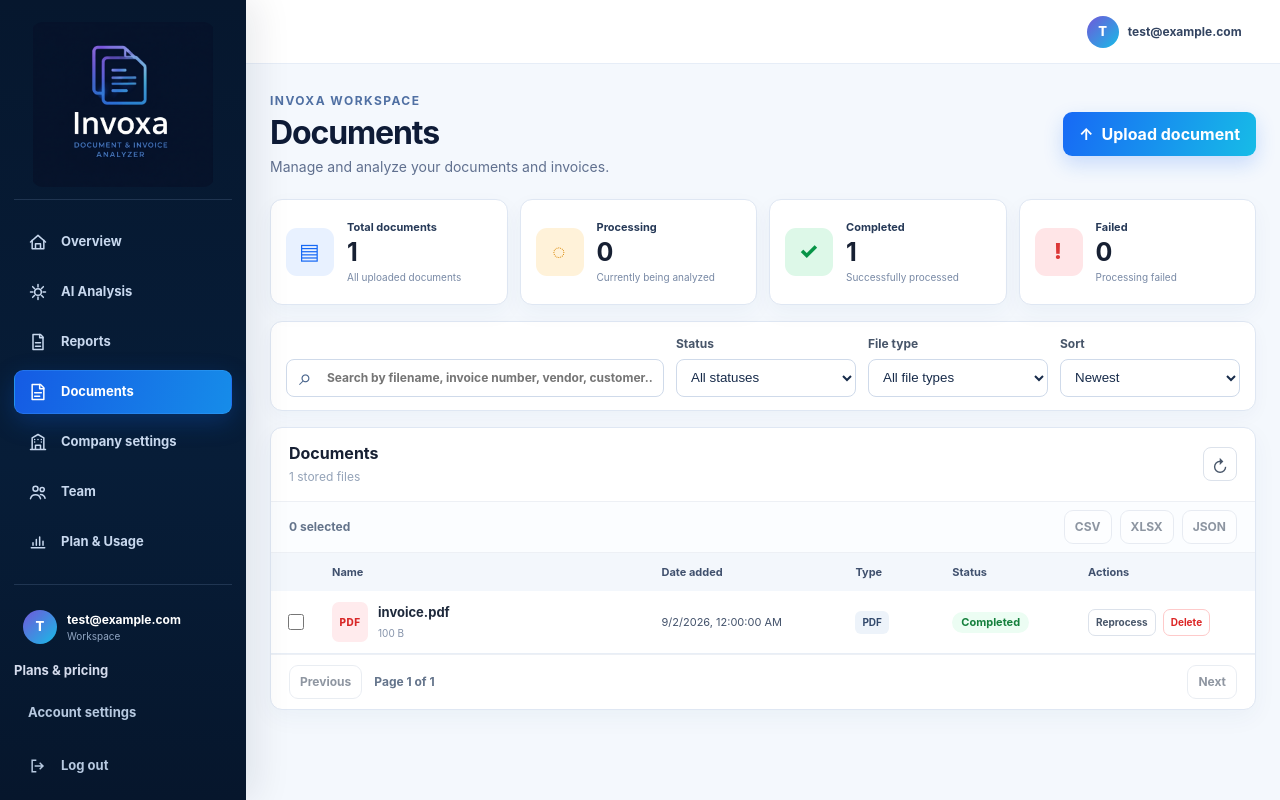
Test case: professional document detail › shows authenticated PDF preview, structured fields, line items and clean missing values
(page scrolled)
Click the button "PDF invoice.pdf 100 B" at (350, 622), box left=332, top=602, right=636, bottom=642
(page scrolled)
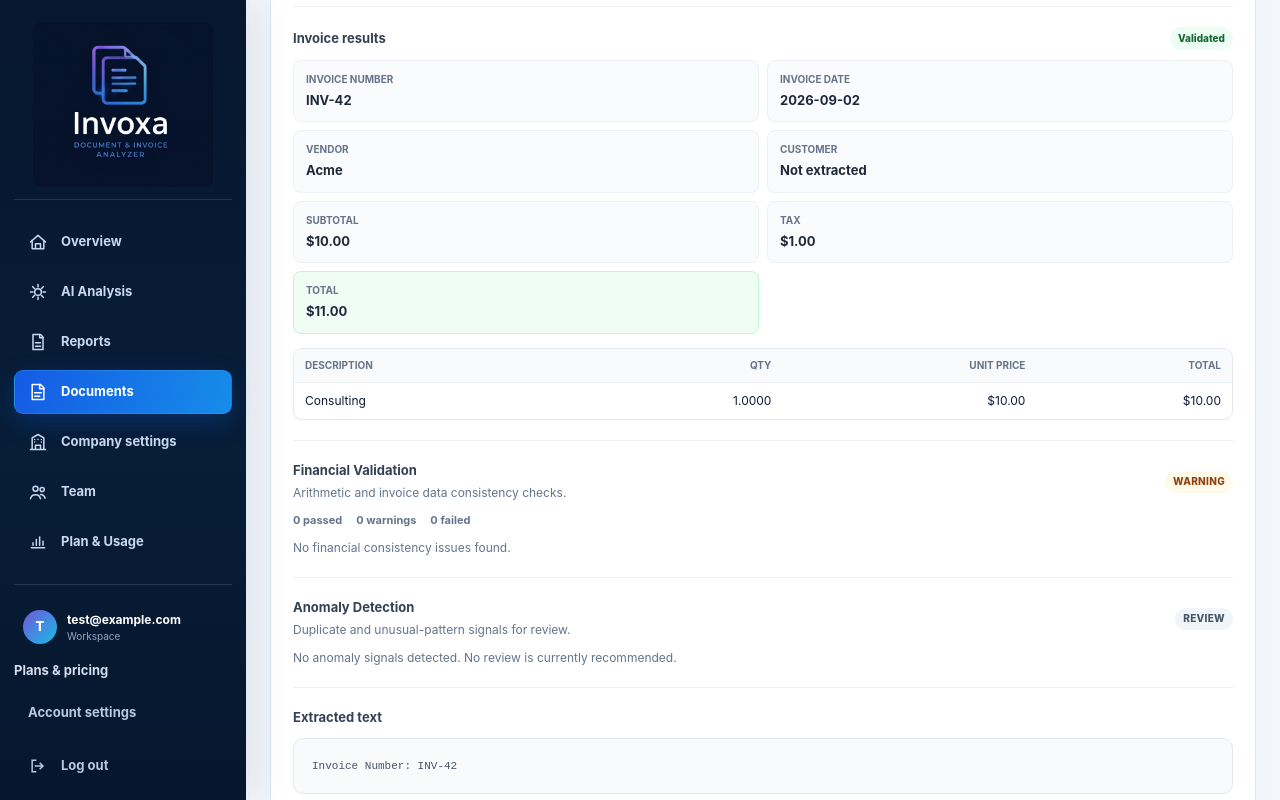
Check: the text "INV-42" is shown, box left=306, top=92, right=352, bottom=108
Check: the text "Acme" is shown, box left=306, top=162, right=343, bottom=178
Check: the text "Not extracted" is shown, box left=780, top=162, right=867, bottom=178
